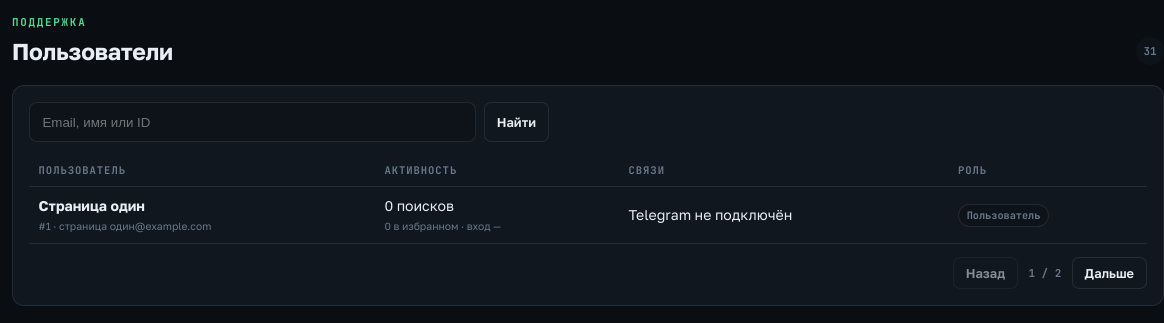
Test: loads and renders the next directory page
The width and height of the screenshot is (1164, 323).
Expected: the text "Страница один" is shown, x1=39 y1=197 x2=145 y2=214
Click the button "Дальше" at (1109, 273), box x1=1072 y1=257 x2=1147 y2=289
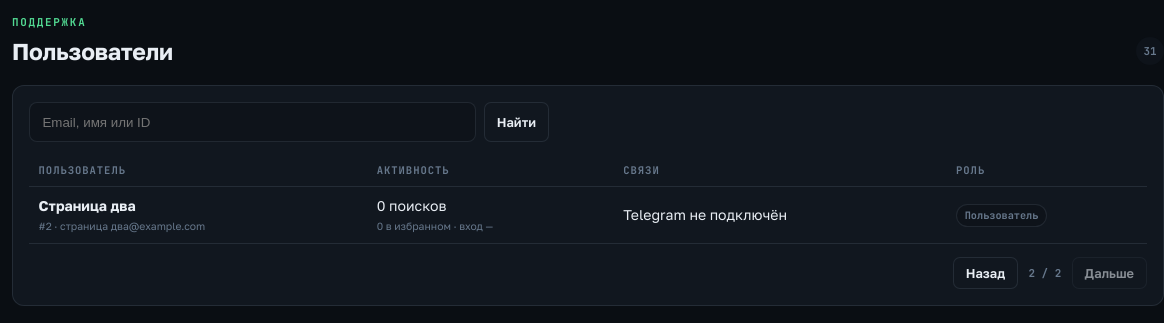
Expected: the text "Страница два" is shown, x1=39 y1=197 x2=136 y2=214
Expected: the text "2 / 2" is shown, x1=1028 y1=266 x2=1061 y2=280
